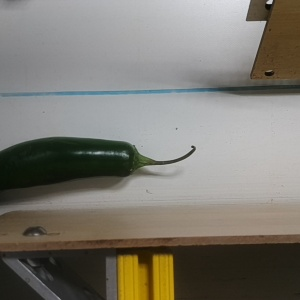Cut Point: (114, 141, 151, 177)
